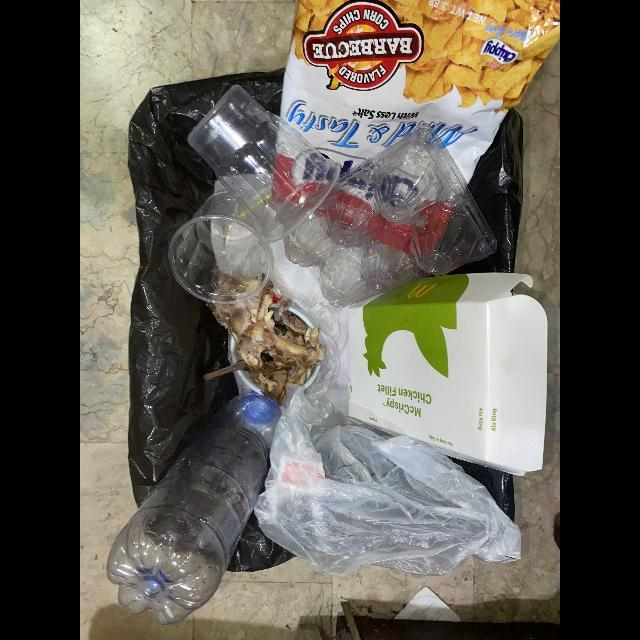cardboard: (345, 269, 549, 475)
food_wrapper: (280, 0, 560, 182)
left_over_food: (209, 291, 324, 404)
plastic_bag: (254, 268, 523, 574)
plastic_bottle: (107, 393, 282, 626), (284, 123, 497, 309), (189, 84, 341, 244), (170, 189, 274, 304)
